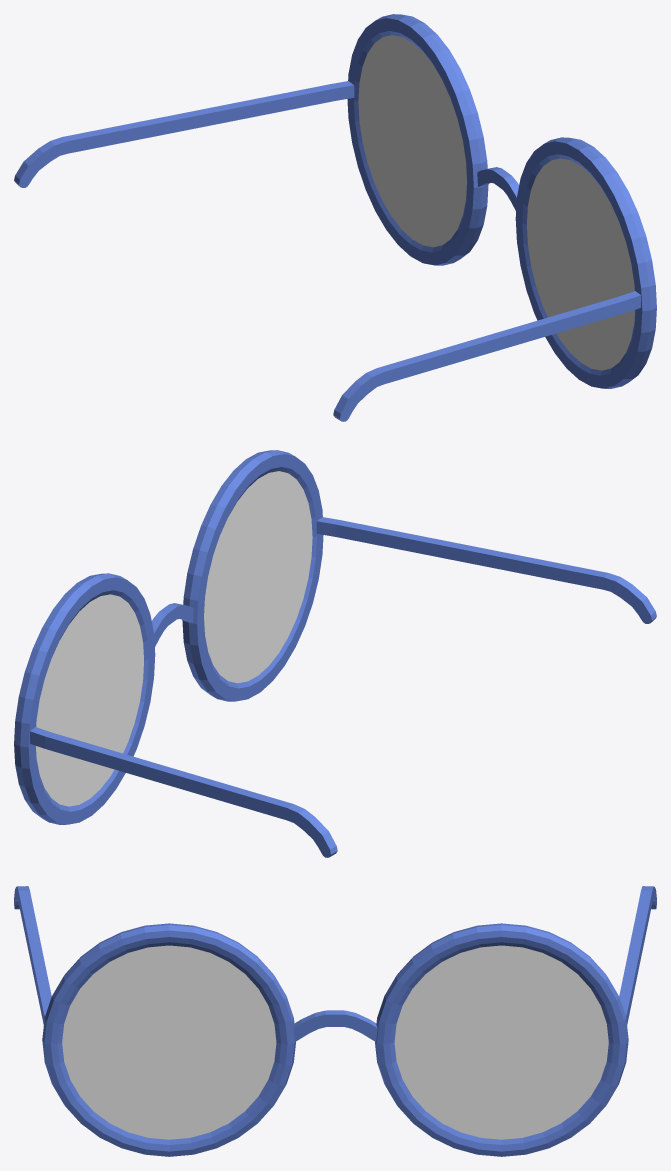
The model's file is GlassesCustom.fbx.
3 renders of one model, top to bottom at view 1: azimuth 30°, elevation 25°; view 2: azimuth 150°, elevation 25°; view 3: azimuth 270°, elevation 25°, orthographic.
Parts seen in each view (by area): view 1: Cube; view 2: Cube; view 3: Cube.
Boxes of the visible parts, bbox=[...] form: Cube: bbox=[14, 14, 656, 421]; Cube: bbox=[14, 450, 656, 857]; Cube: bbox=[14, 886, 656, 1156].
Size of the model in its own units: 3.56 by 2.37 by 6.
